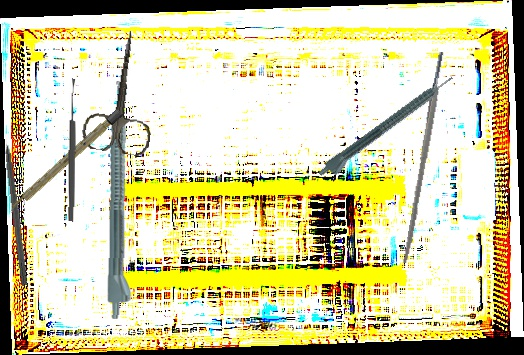Handpiece: (316, 72, 460, 185), (106, 81, 138, 320)
Hook Surgical: (1, 127, 30, 286)
Iris Scissors: (79, 25, 167, 158)
Scalpel Handle: (6, 108, 124, 215), (400, 51, 448, 264)
Surgical Spoon: (67, 78, 78, 222)
